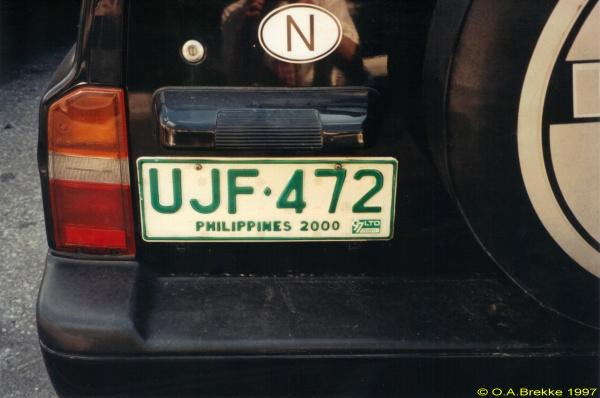plate: (136, 158, 393, 240)
